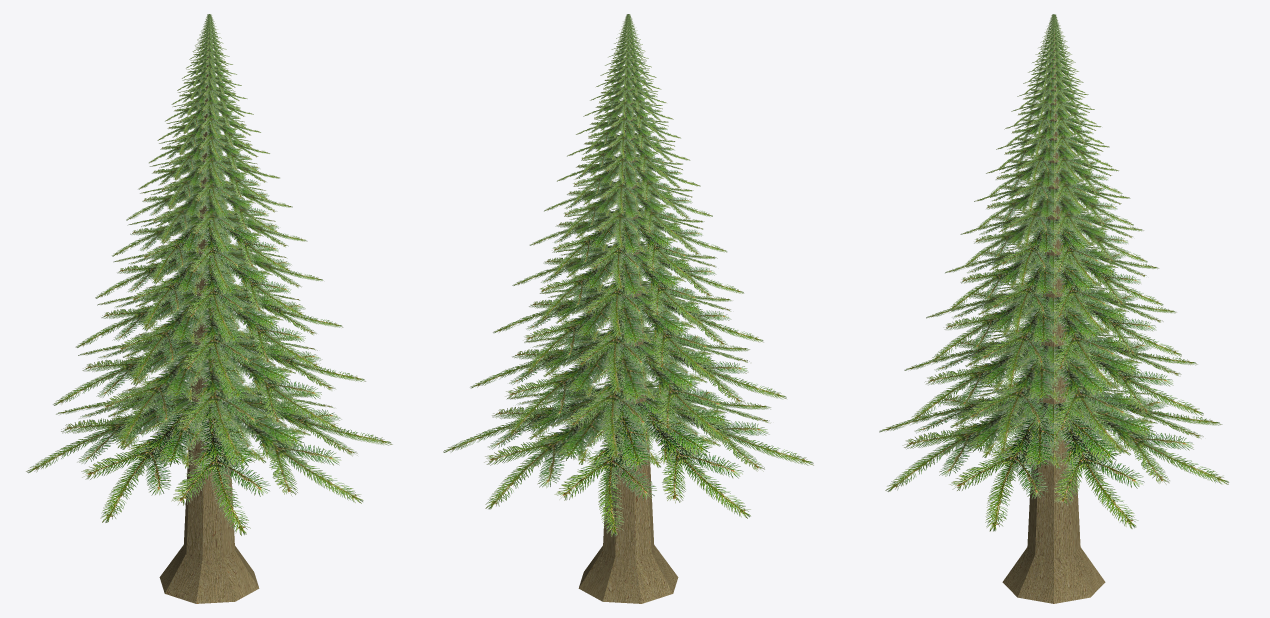
Rendered from PineTree.fbx.
The picture shows the model from 3 angles, left to right: view 1: azimuth 30°, elevation 25°; view 2: azimuth 150°, elevation 25°; view 3: azimuth 270°, elevation 25°; orthographic projection.
Visible parts, largest first — view 1: Cone, Cylinder; view 2: Cone, Cylinder; view 3: Cone, Cylinder.
Boxes of the visible parts, box(x1,y1,x2,y2) form: Cone: box(26, 14, 392, 535); Cylinder: box(159, 34, 259, 603); Cone: box(443, 14, 813, 536); Cylinder: box(578, 39, 678, 603); Cone: box(879, 14, 1229, 531); Cylinder: box(1002, 34, 1105, 603).
Size of the model in its own units: 701 by 1089 by 701.
Materials: 2 (2 with a texture image).
